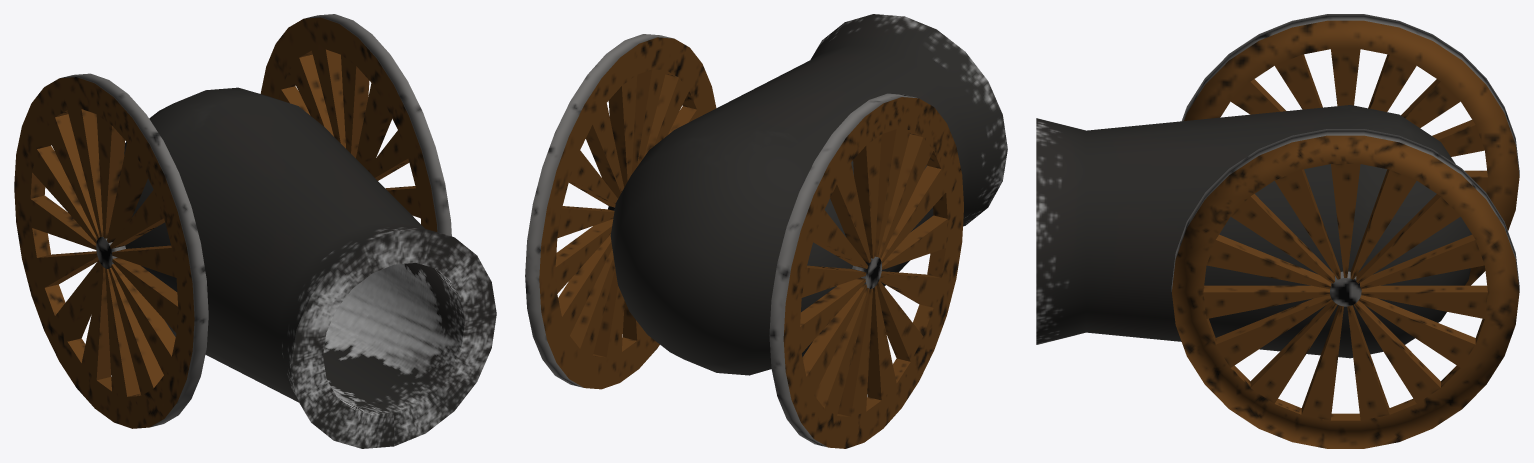
Rendered from CannonNew.fbx.
3 renders of one model, left to right at view 1: azimuth 30°, elevation 25°; view 2: azimuth 150°, elevation 25°; view 3: azimuth 270°, elevation 25°, orthographic. The views are drawn at different scales.
Parts seen in each view (by area): view 1: Cannon; view 2: Cannon; view 3: Cannon.
Part boxes in pixels (<box>): Cannon: <box>14,14,496,448</box>; Cannon: <box>525,14,1007,448</box>; Cannon: <box>1036,14,1519,448</box>.
Size of the model in its own units: 9.35 by 11.24 by 15.71.
Materials: 1 (1 with a texture image).
